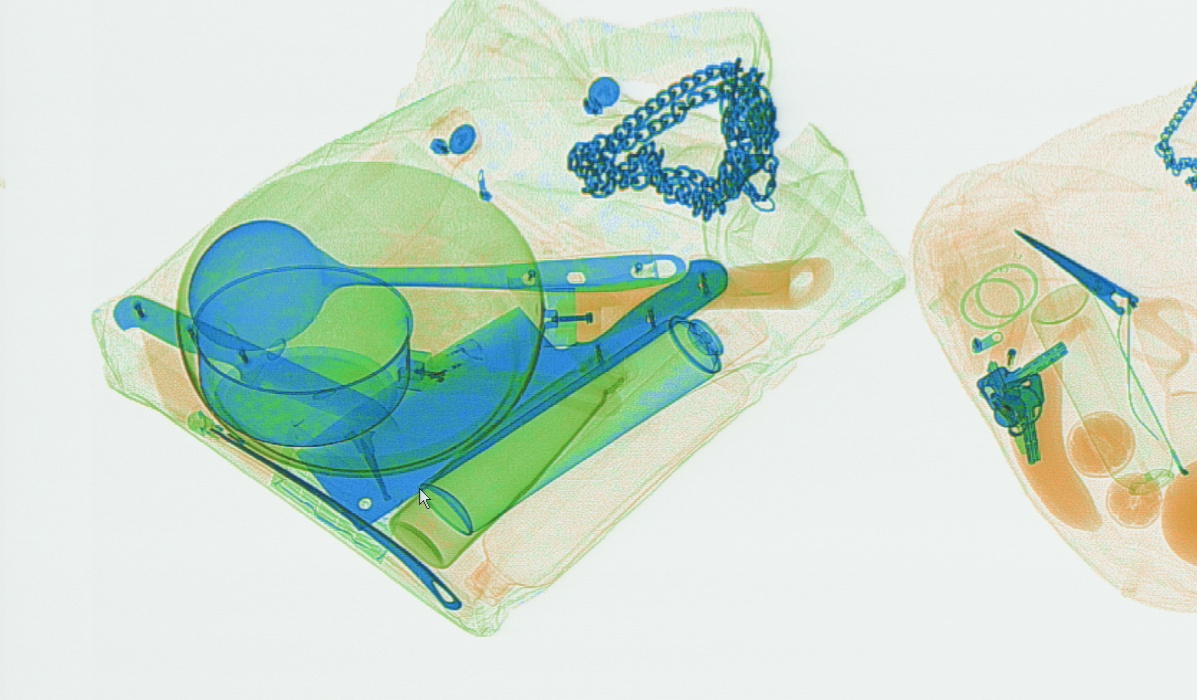knife: (299, 259, 727, 529), (109, 295, 400, 434)
lighter: (186, 409, 289, 485), (977, 305, 1032, 387)
pressure: (415, 286, 770, 529), (1031, 282, 1179, 500)
scissors: (1012, 224, 1193, 370)
